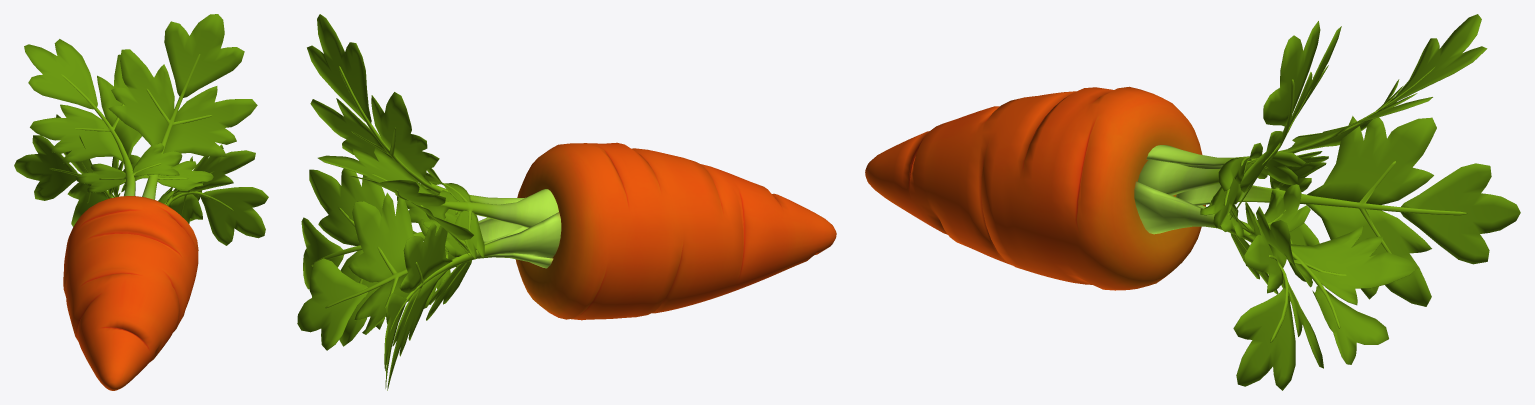
File: cartoon_carrot.fbx
3 views of the same model, side by side, from view 1: azimuth 30°, elevation 25°; view 2: azimuth 150°, elevation 25°; view 3: azimuth 270°, elevation 25° (orthographic). The views are drawn at different scales.
Parts seen in each view (by area): view 1: carrot_leaves, carrot; view 2: carrot_leaves, carrot; view 3: carrot_leaves, carrot.
Boxes of the visible parts, box(x1,y1,x2,y2) form: carrot_leaves: box(14, 14, 268, 245); carrot: box(63, 196, 198, 390); carrot_leaves: box(297, 14, 561, 390); carrot: box(515, 142, 836, 320); carrot_leaves: box(1134, 14, 1520, 390); carrot: box(865, 86, 1205, 290).
Bounding box in the file's own units: 217 × 172 × 292.
2 materials, 2 textured.
